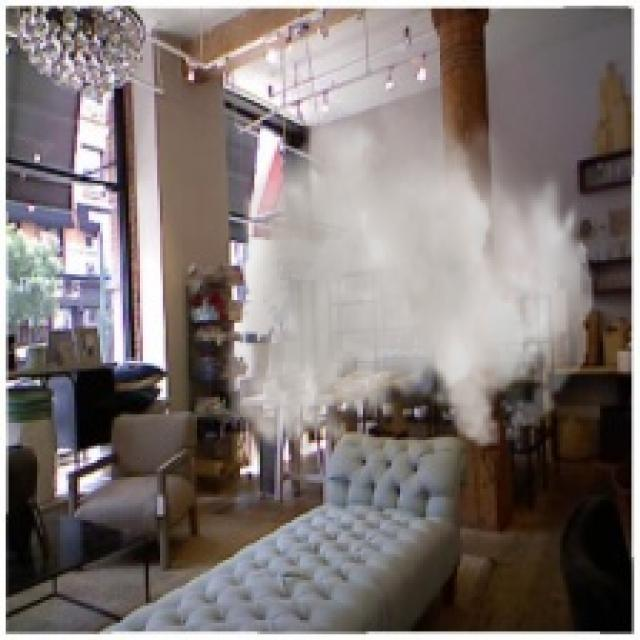Smoke: (222, 68, 594, 460)
